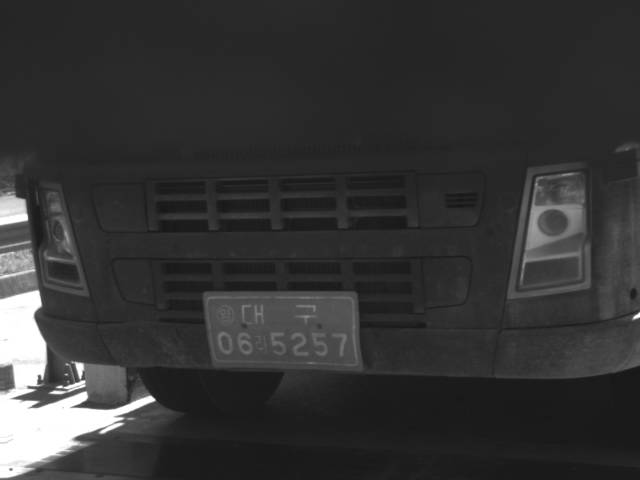car: (12, 62, 639, 417)
plate: (202, 290, 361, 369)
